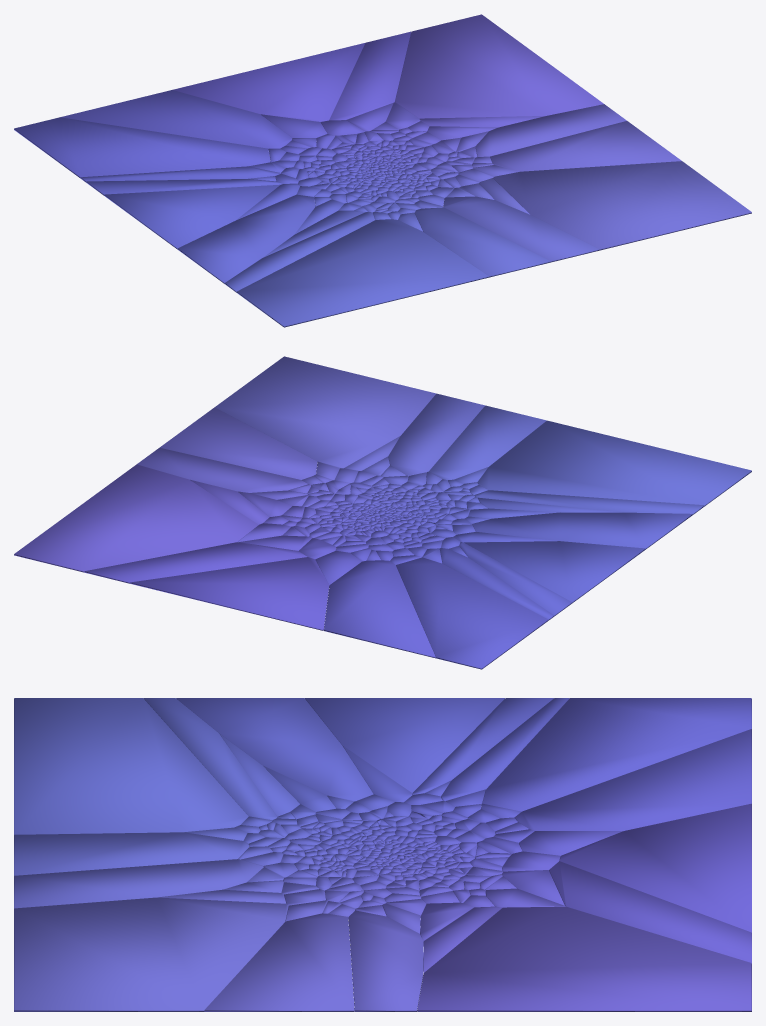
Rendered from EffectMesh0342.FBX.
The picture shows the model from 3 angles, top to bottom: view 1: azimuth 30°, elevation 25°; view 2: azimuth 150°, elevation 25°; view 3: azimuth 270°, elevation 25°; orthographic projection. The views are drawn at different scales.
Visible parts, largest first — view 1: SM_glass_xx; view 2: SM_glass_xx; view 3: SM_glass_xx.
Part boxes in pixels (x1,y1,x2,y2): SM_glass_xx: (14,14,751,327); SM_glass_xx: (14,356,751,669); SM_glass_xx: (14,698,751,1011).
Size of the model in its own units: 1001 by 3 by 1001.
